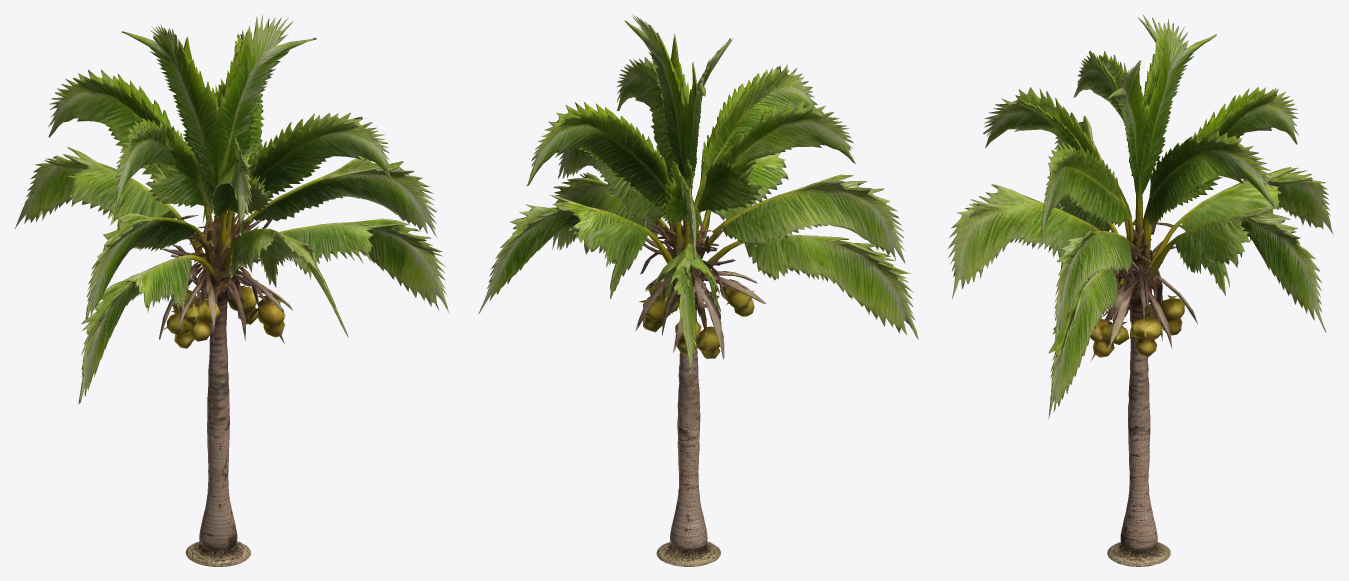
The model's file is palm_b.glb.
The picture shows the model from 3 angles, left to right: view 1: azimuth 30°, elevation 25°; view 2: azimuth 150°, elevation 25°; view 3: azimuth 270°, elevation 25°; orthographic projection. The views are drawn at different scales.
Visible parts, largest first — view 1: palm_b; view 2: palm_b; view 3: palm_b.
Boxes of the visible parts, <box> form: palm_b: <box>14,15,449,566</box>; palm_b: <box>478,14,918,566</box>; palm_b: <box>948,14,1334,566</box>.
Bounding box in the file's own units: 0.7132 × 0.9804 × 0.6629.
Materials: 1 (1 with a texture image).
